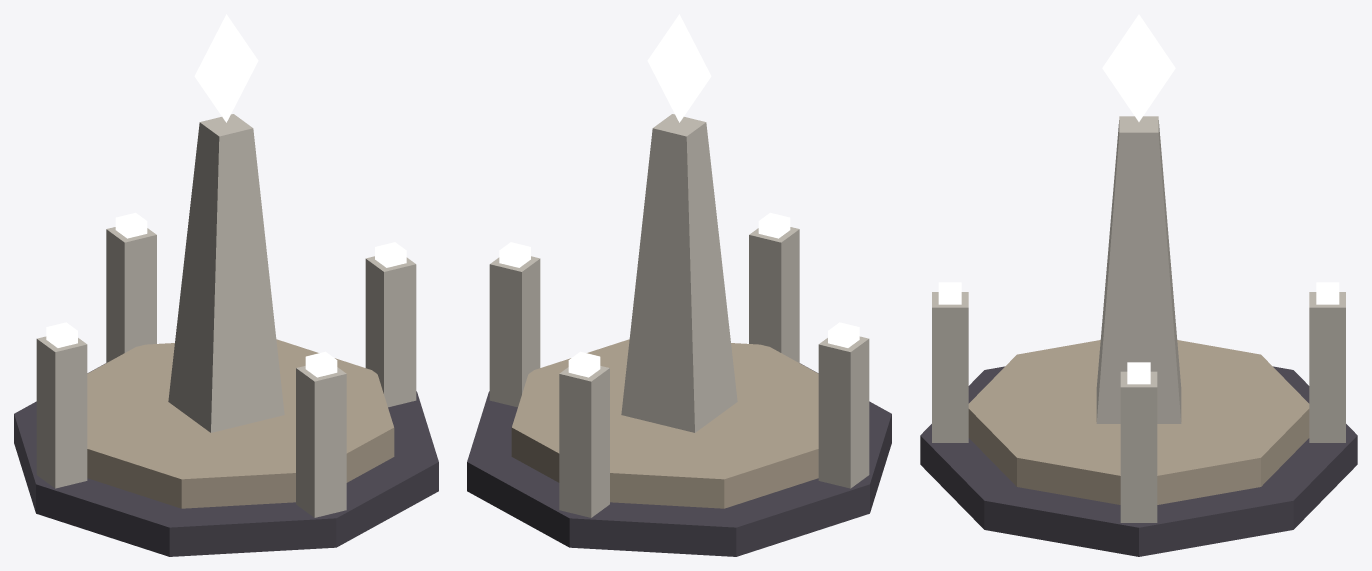
File: hero_forge_t1.glb
3 renders of one model, left to right at view 1: azimuth 30°, elevation 25°; view 2: azimuth 150°, elevation 25°; view 3: azimuth 270°, elevation 25°, orthographic.
Visible parts, largest first — view 1: body, glow; view 2: body, glow; view 3: body, glow.
Part boxes in pixels (left/top/right/bottom): body: left=14, top=114, right=438, bottom=556; glow: left=46, top=14, right=406, bottom=377; body: left=467, top=114, right=891, bottom=556; glow: left=499, top=14, right=859, bottom=377; body: left=920, top=116, right=1357, bottom=556; glow: left=938, top=14, right=1339, bottom=384.
Bounding box in the file's own units: 1.9 × 2.16 × 1.9.
